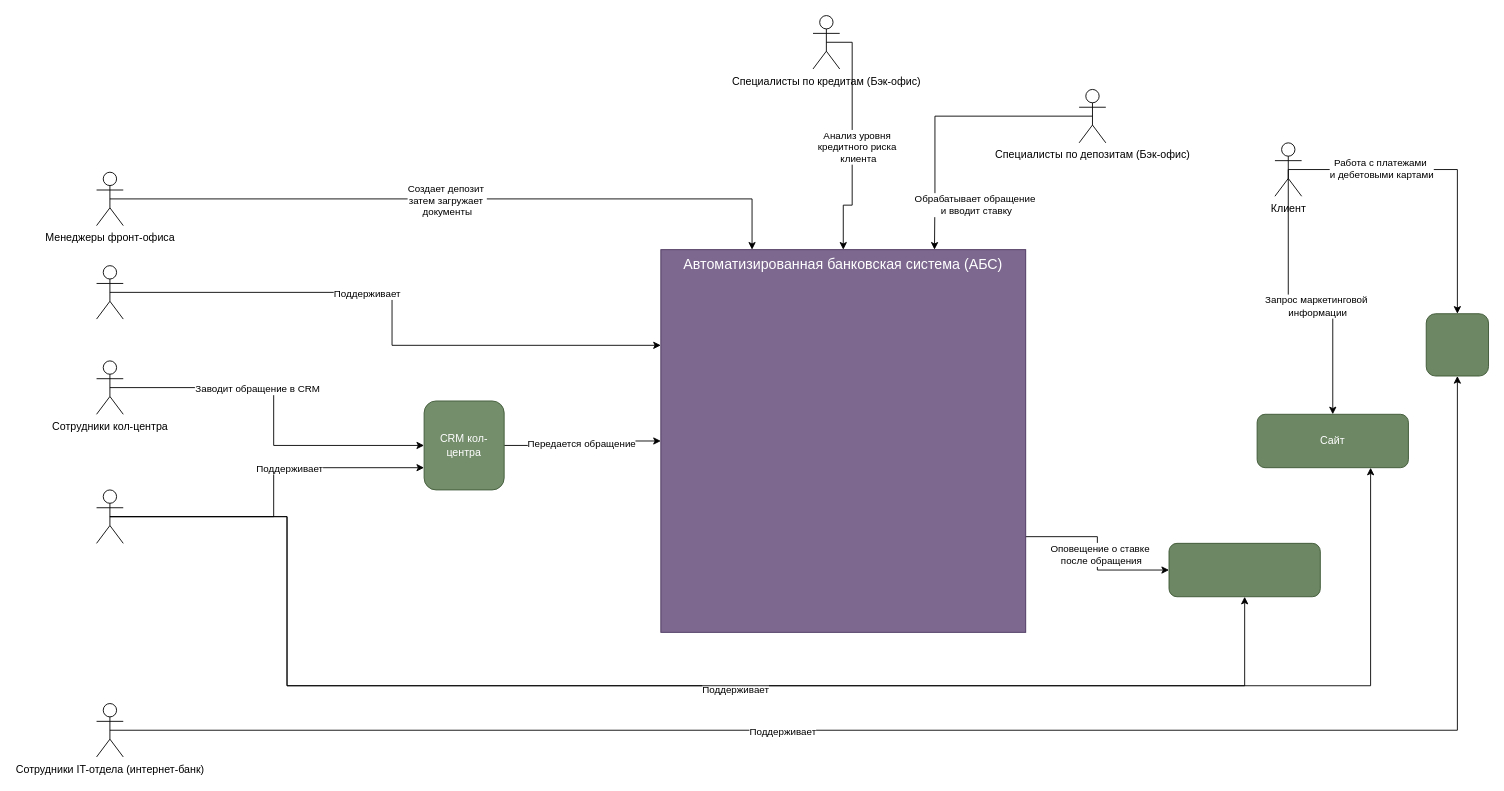
The diagram is 1504 pixels wide and 791 high, and some of its shapes have lost their labels. The shapes that lost their labels are listed below. From the top down, each one's centre as x and y in pixels, then its label:
At (109,292): "Сотрудники IT-отдела (АБС)".
At (1457,344): "Интернет банк".
At (109,516): "Сотрудники IT-отдела".
At (1244,569): "SMS шлюз".
